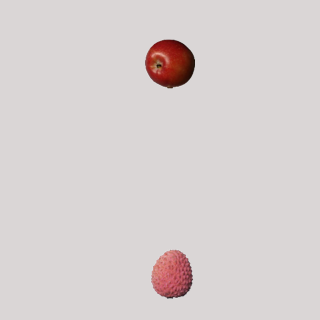Apple Braeburn: (144, 38, 194, 88)
Lychee: (146, 248, 196, 298)
